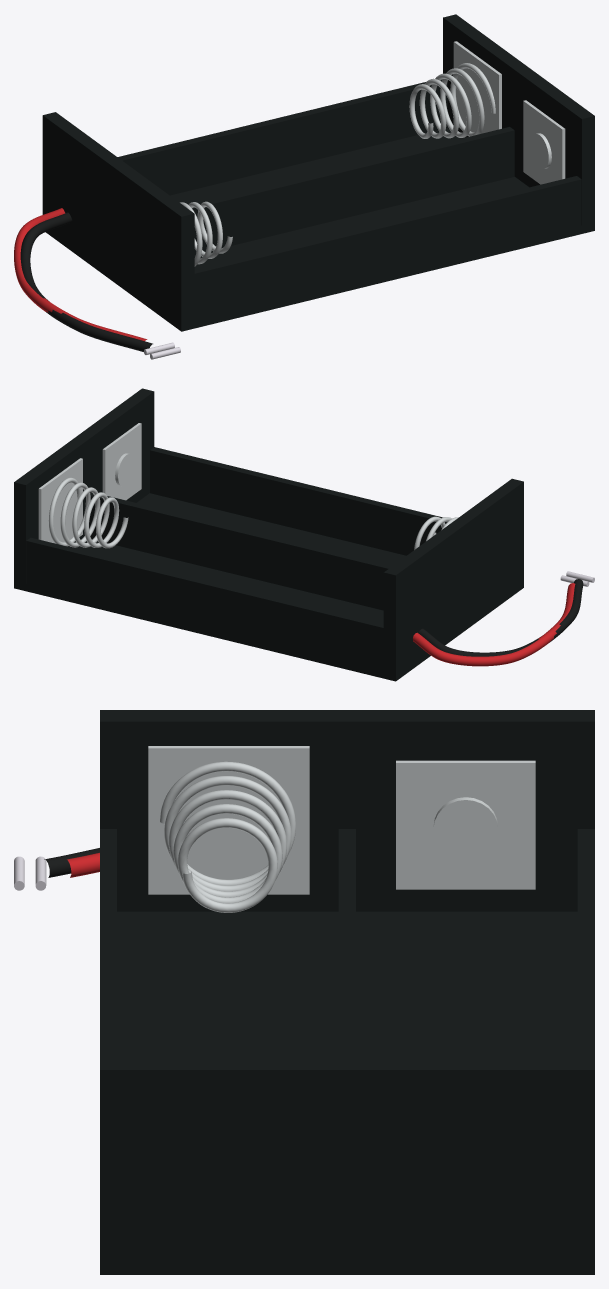
File: bateria-18650-2s.glb
3 renders of one model, top to bottom at view 1: azimuth 30°, elevation 25°; view 2: azimuth 150°, elevation 25°; view 3: azimuth 270°, elevation 25°, orthographic. The views are drawn at different scales.
Size of the model in its own units: 94.95 by 21.39 by 53.97.
Materials: 4 (4 with a texture image).
